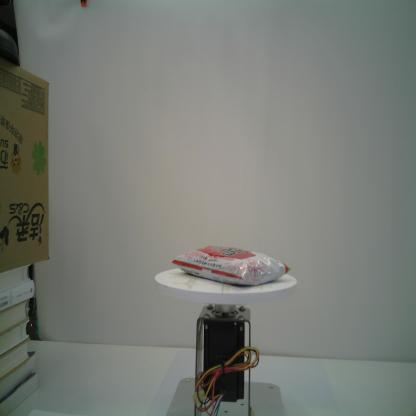Seasoner: (170, 242, 293, 288)
